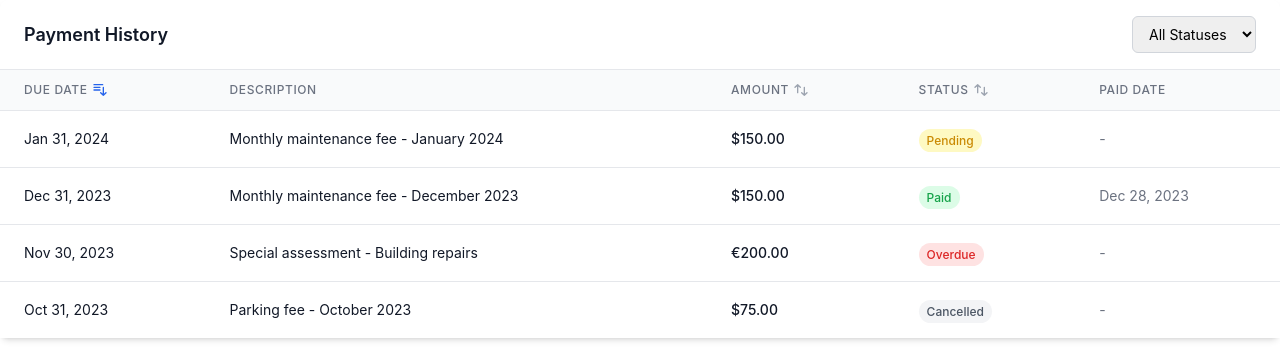
Test case: PaymentHistory › filters payments by status
Filter by paid status
Select "Paid" in the dropdown showing "All Statuses" at (1194, 34), box [1132, 16, 1256, 53]
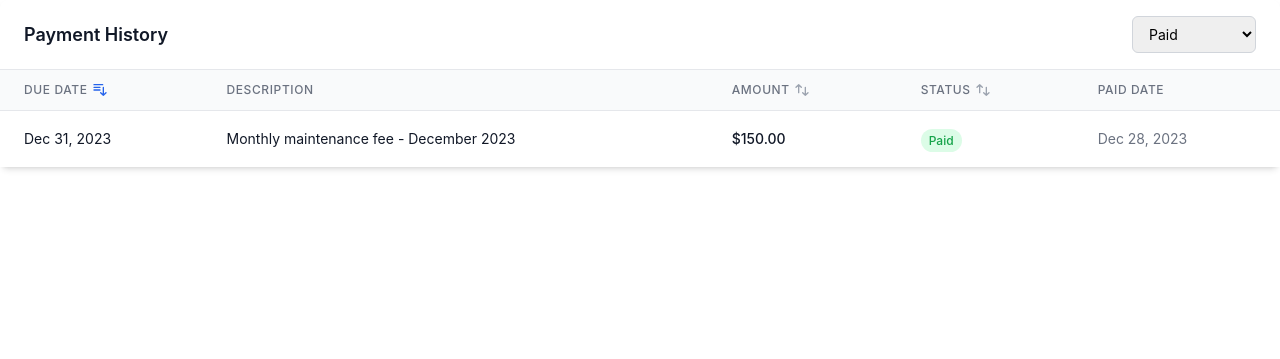
Expected: the text "Monthly maintenance fee - January 2024" is gone
Expected: the text "Special assessment - Building repairs" is gone
Expected: the text "Parking fee - October 2023" is gone
